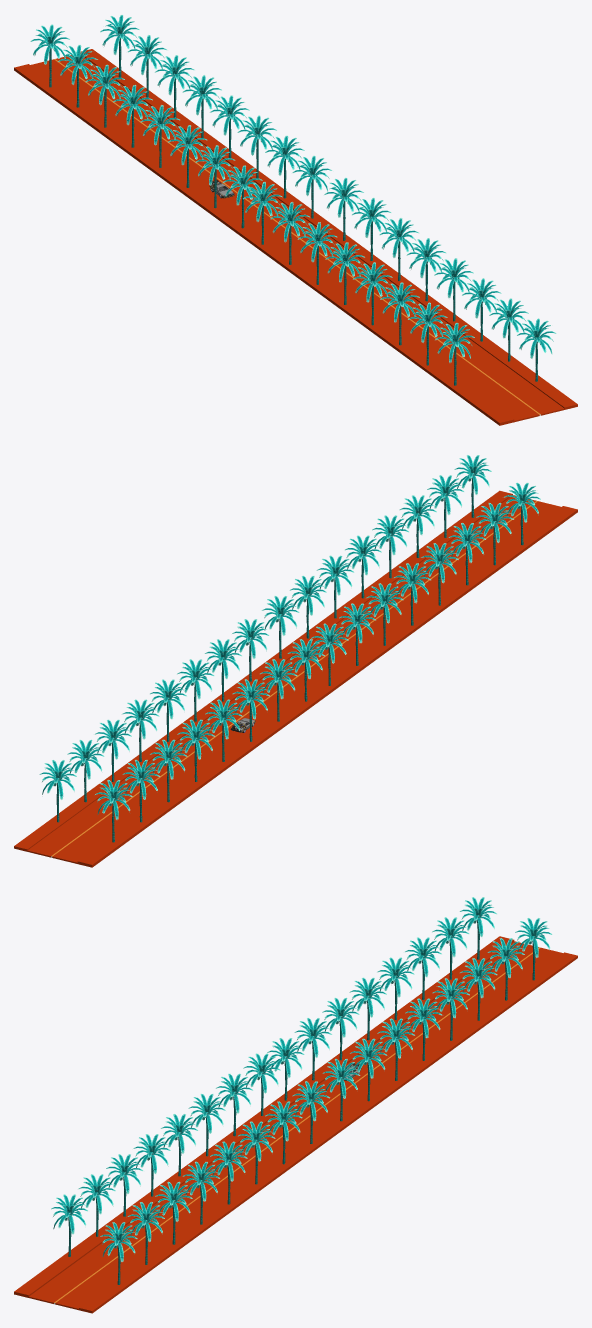
The model's file is 49ec1d94-325b-47de-a49a-309c7dac523f.obj.
The picture shows the model from 3 angles, top to bottom: view 1: azimuth 30°, elevation 25°; view 2: azimuth 150°, elevation 25°; view 3: azimuth 330°, elevation 25°; orthographic projection.
Visible parts, largest first — view 1: Mesh2211 ca425376_d6c8_4068_84ae_051118d28156_1 Model; view 2: Mesh2211 ca425376_d6c8_4068_84ae_051118d28156_1 Model; view 3: Mesh2211 ca425376_d6c8_4068_84ae_051118d28156_1 Model.
Boxes of the visible parts, left/top/right/bottom form: Mesh2211 ca425376_d6c8_4068_84ae_051118d28156_1 Model: left=14, top=49, right=577, bottom=425; Mesh2211 ca425376_d6c8_4068_84ae_051118d28156_1 Model: left=14, top=490, right=577, bottom=867; Mesh2211 ca425376_d6c8_4068_84ae_051118d28156_1 Model: left=14, top=936, right=577, bottom=1313.
Size of the model in its own units: 1682 by 958 by 14132.
61 materials, 4 textured.
